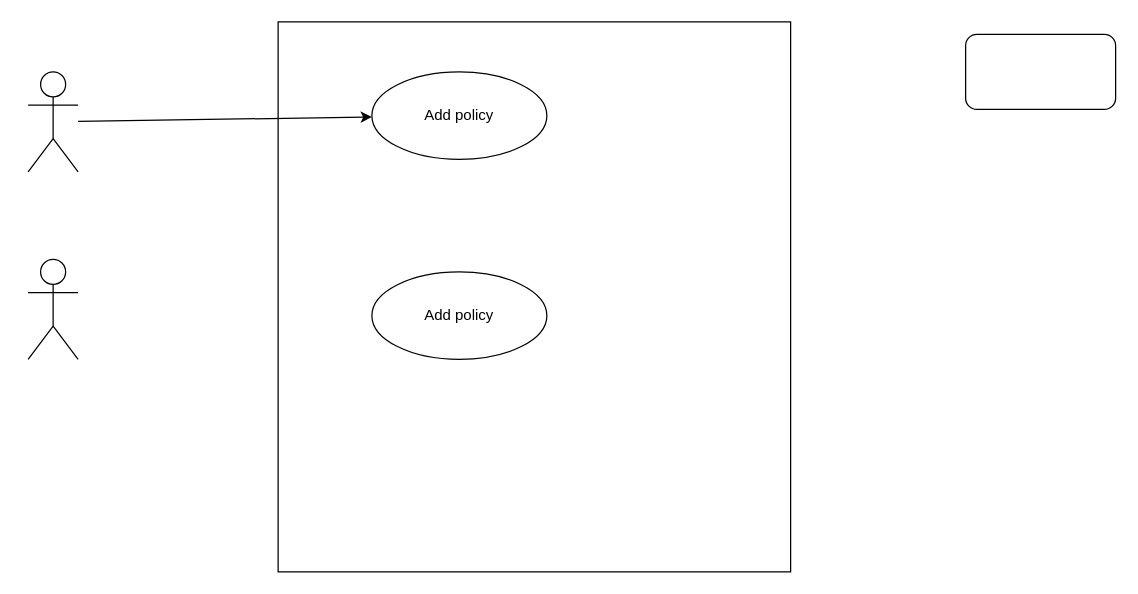
This 1138x594 diagram has some shape labels left out. Here are the shapes that lost their labels. From the top down, the centre of each, then its label:
(52,121): Admin
(52,308): WebUser
